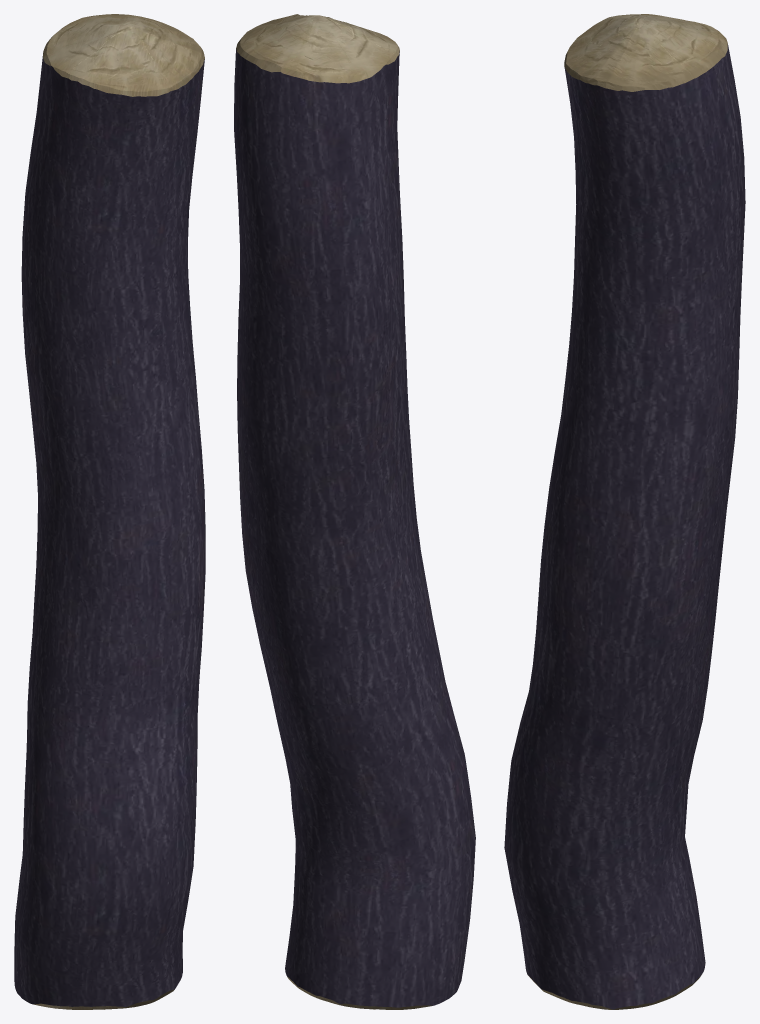
3 renders of one model, left to right at view 1: azimuth 30°, elevation 25°; view 2: azimuth 150°, elevation 25°; view 3: azimuth 270°, elevation 25°, orthographic. The views are drawn at different scales.
Parts seen in each view (by area): view 1: SM_GF_Oak_Tree_02_half_top_LOD0; view 2: SM_GF_Oak_Tree_02_half_top_LOD0; view 3: SM_GF_Oak_Tree_02_half_top_LOD0.
Boxes of the visible parts, left/top/right/bottom form: SM_GF_Oak_Tree_02_half_top_LOD0: left=14, top=14, right=205, bottom=1009; SM_GF_Oak_Tree_02_half_top_LOD0: left=234, top=14, right=475, bottom=1009; SM_GF_Oak_Tree_02_half_top_LOD0: left=504, top=14, right=745, bottom=1009.
Bounding box in the file's own units: 1.15 × 5.62 × 1.22.
Materials: 1 (1 with a texture image).
